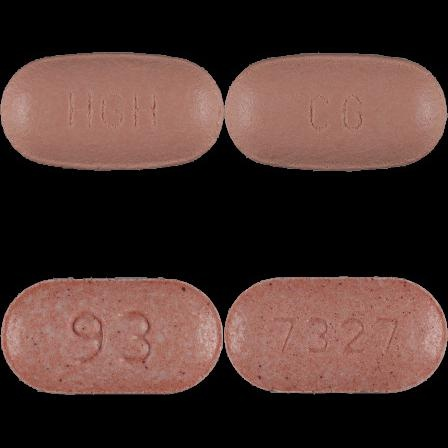68258-6056: (0, 0, 224, 224)
